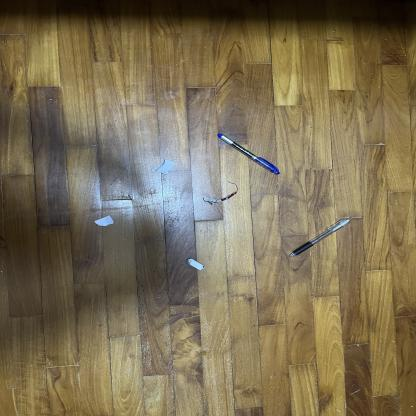dirty: (204, 181, 238, 205), (154, 159, 176, 175), (94, 215, 114, 226)
